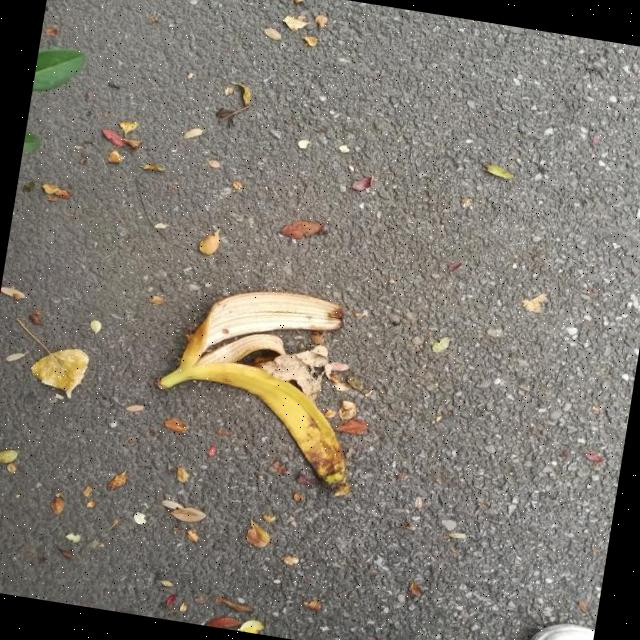banana-peel: (142, 271, 381, 500)
